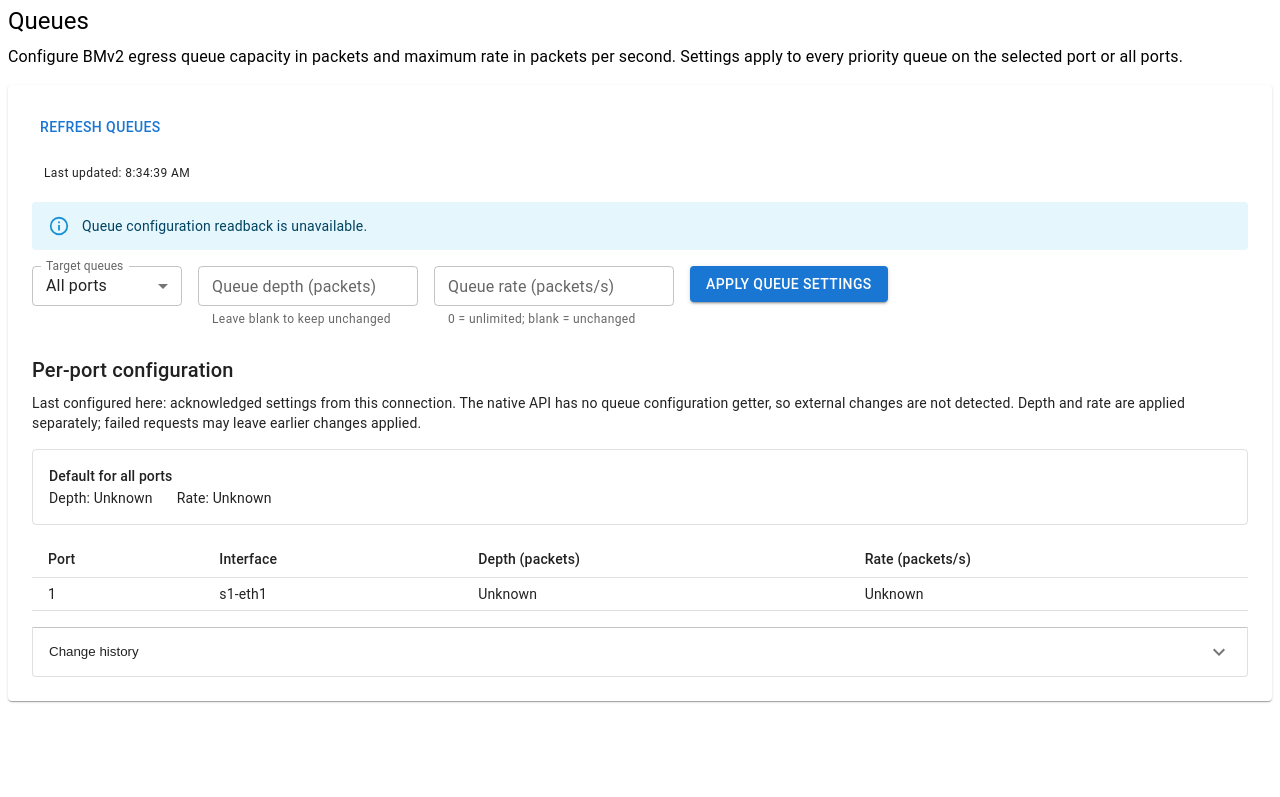
Test: queue controls › explains partial changes and unknown native outcomes
This screenshot has width=1280, height=797.
Check: the text "Queue configuration readback is unavailable." is shown, box [82,218,367,234]
Type "42" into the field labelled "Queue depth (packets)".
click(308, 286); type("42")  # box [198,266,418,306]
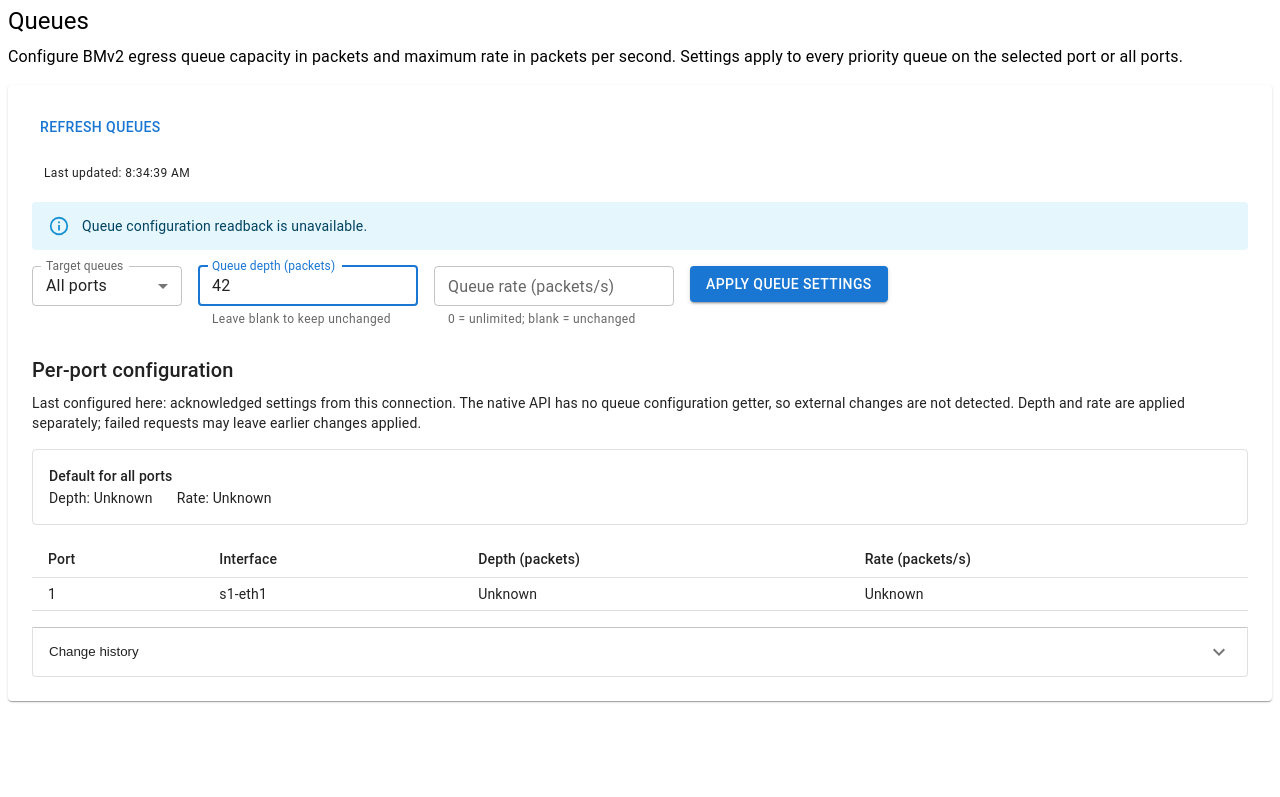
Type "100" into the field labelled "Queue rate (packets/s)".
click(554, 286); type("100")  # box [434,266,674,306]
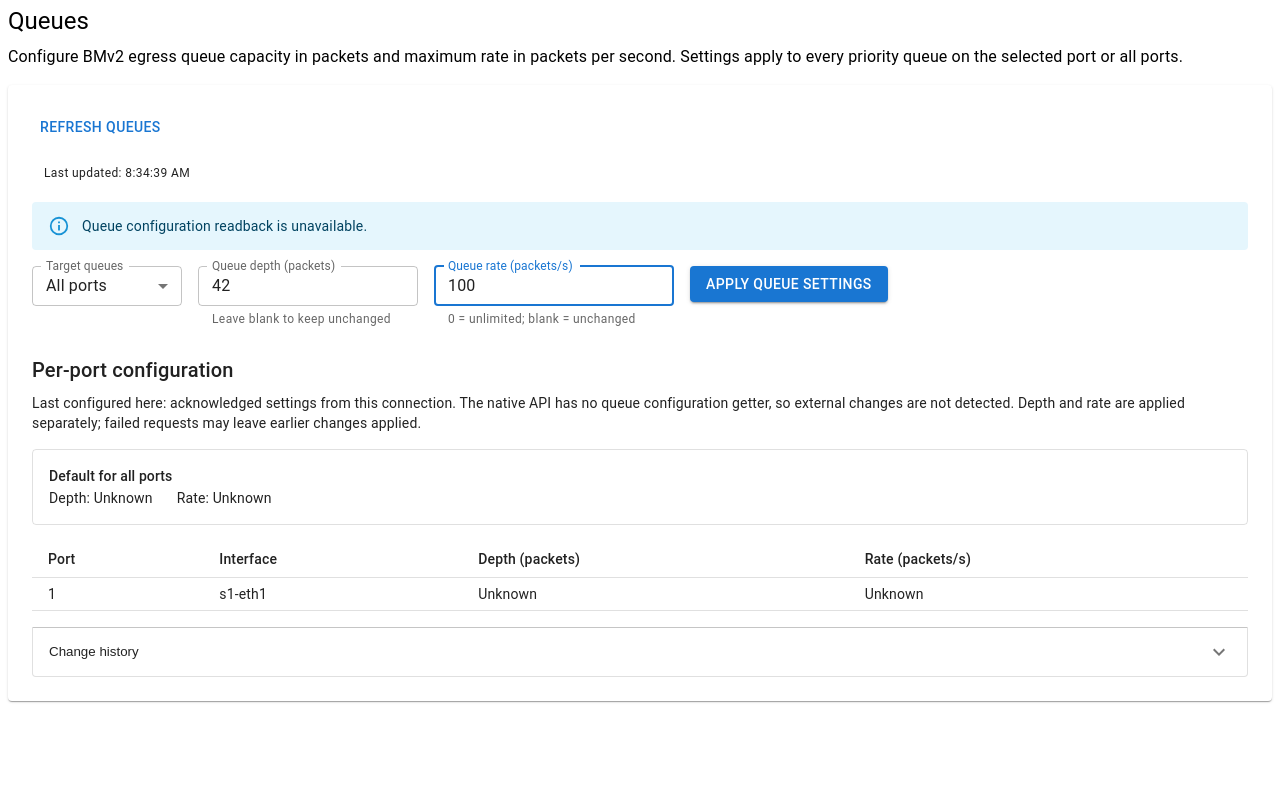
Click the button "Apply queue settings".
click(789, 284)  # box [690,266,888,302]
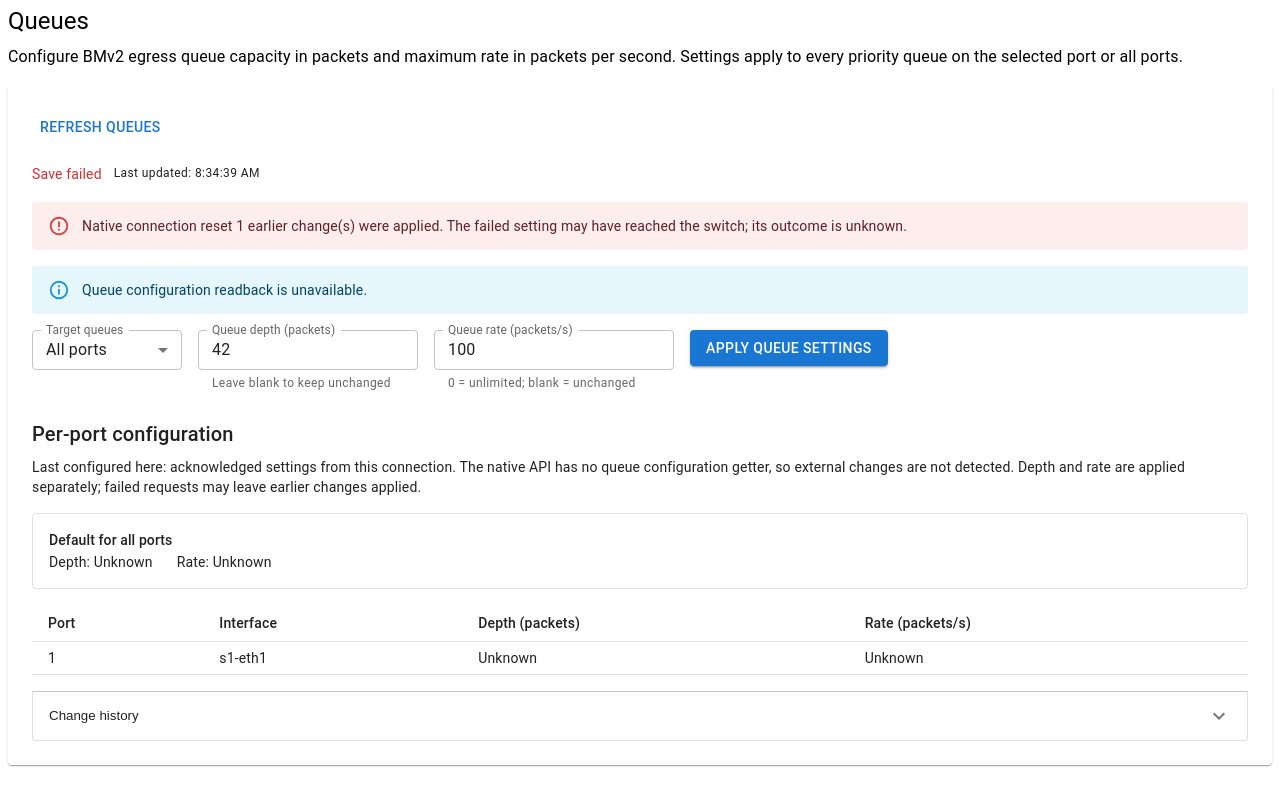
Check: the text "outcome is unknown" is shown, box [82,218,907,234]
Click the button "Change history".
click(94, 716)  # box [33,692,1247,740]
(page scrolled)
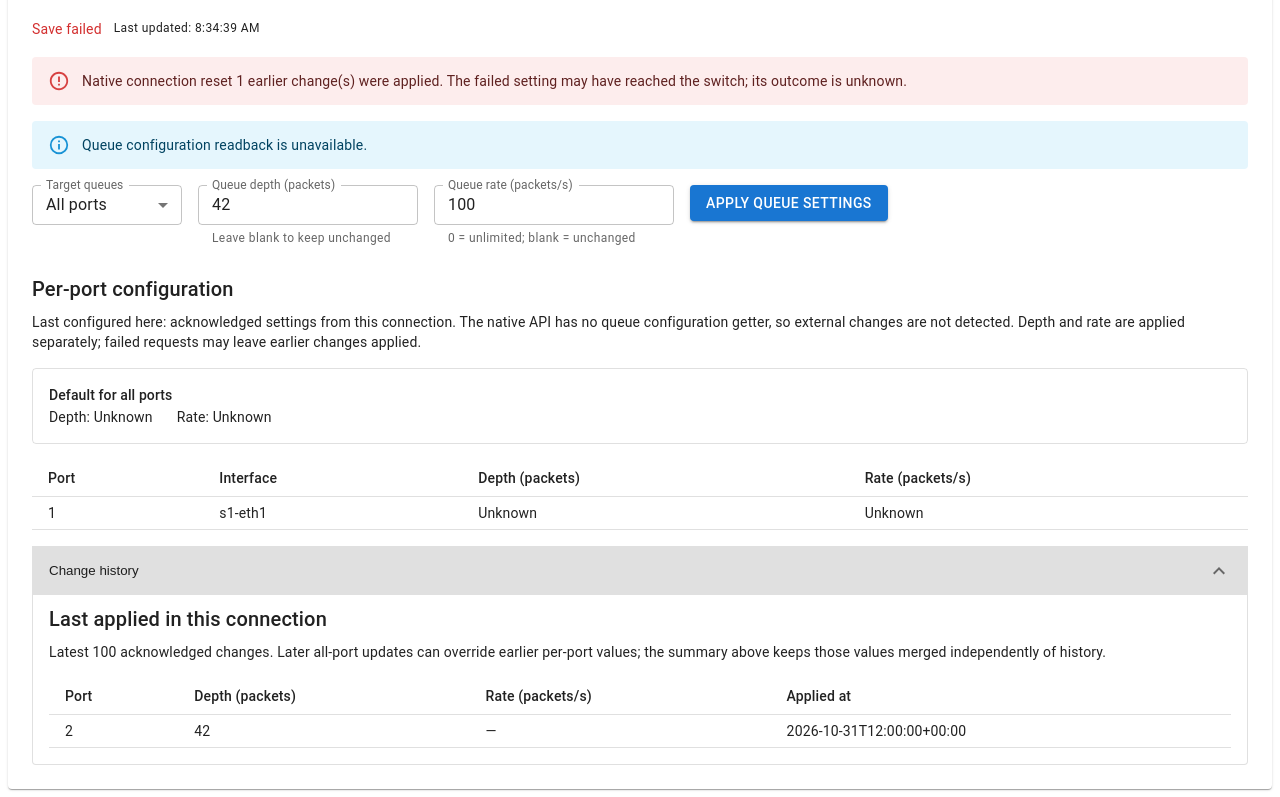
Check: the table named "Queue changes" shows "42", box [194,723,210,739]
